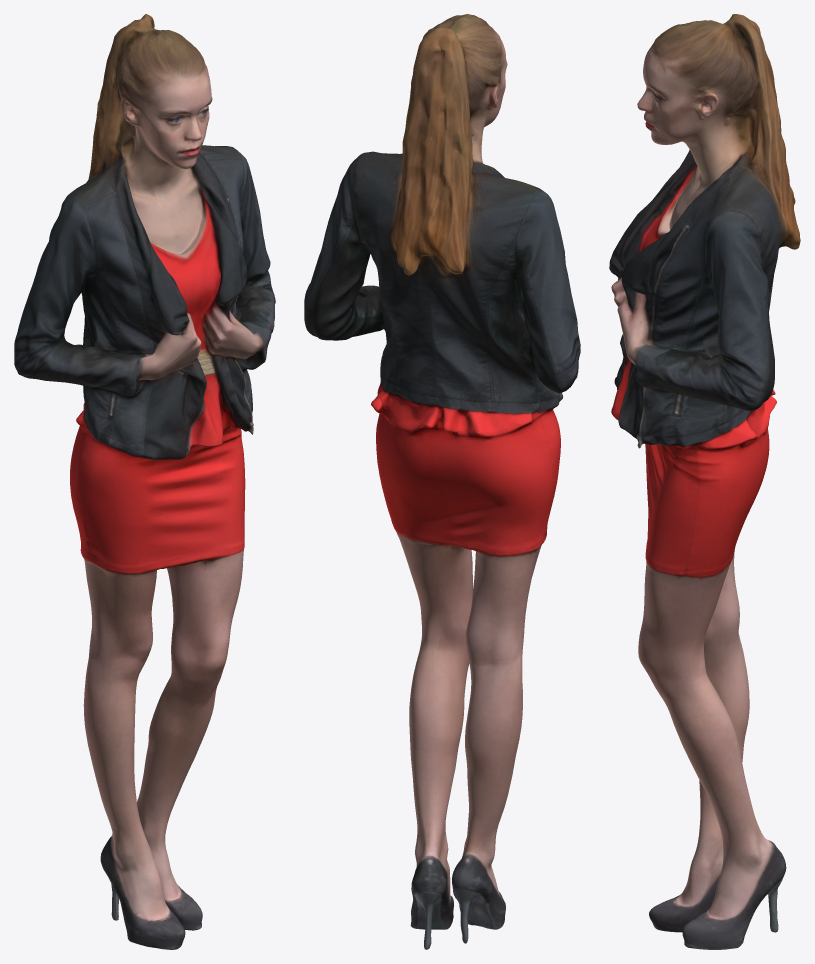
Rendered from Woman in Red Dress Golden Belt  heels and holding Leather jacket Open.fbx.
The picture shows the model from 3 angles, left to right: view 1: azimuth 30°, elevation 25°; view 2: azimuth 150°, elevation 25°; view 3: azimuth 270°, elevation 25°; orthographic projection.
Parts seen in each view (by area): view 1: Woman in Red Dress Golden Belt heels and holding Leather jac; view 2: Woman in Red Dress Golden Belt heels and holding Leather jac; view 3: Woman in Red Dress Golden Belt heels and holding Leather jac.
Boxes of the visible parts, bbox=[...] form: Woman in Red Dress Golden Belt heels and holding Leather jac: bbox=[14, 14, 275, 949]; Woman in Red Dress Golden Belt heels and holding Leather jac: bbox=[304, 14, 580, 949]; Woman in Red Dress Golden Belt heels and holding Leather jac: bbox=[609, 14, 800, 949].
Bounding box in the file's own units: 51.48 × 170 × 32.05.
Materials: 1 (1 with a texture image).
